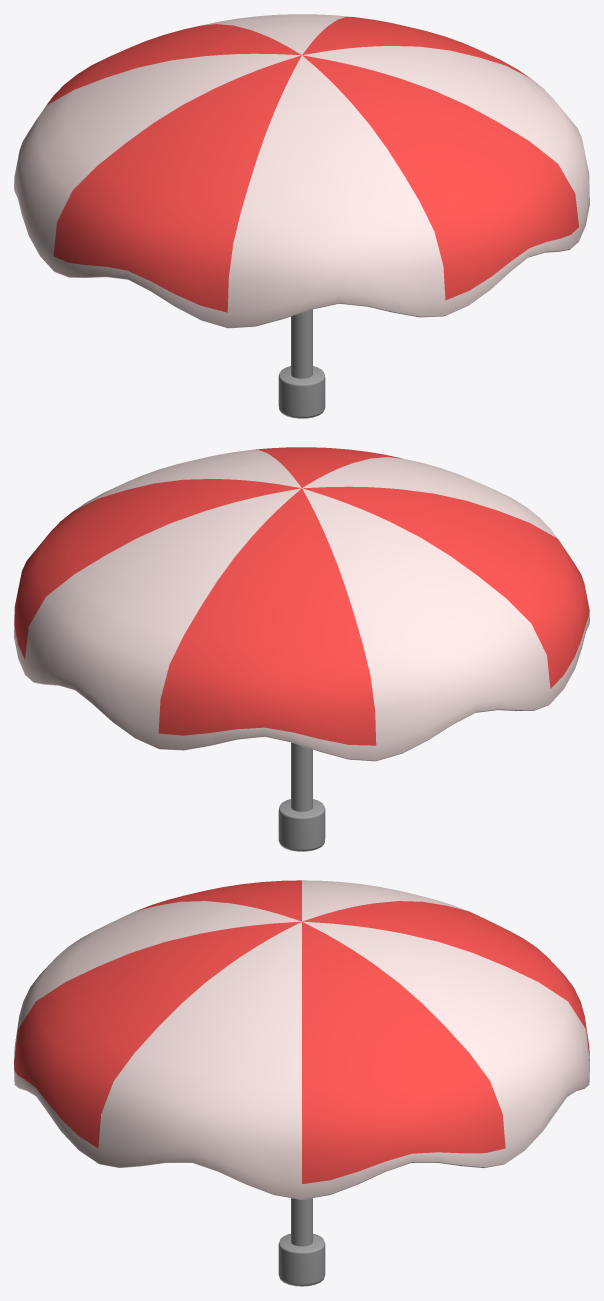
File: Store_12_Umbrella_1.glb
The picture shows the model from 3 angles, top to bottom: view 1: azimuth 30°, elevation 25°; view 2: azimuth 150°, elevation 25°; view 3: azimuth 270°, elevation 25°; orthographic projection.
Visible parts, largest first — view 1: Store_12_Umbrella_1; view 2: Store_12_Umbrella_1; view 3: Store_12_Umbrella_1.
Part boxes in pixels (x1,y1,x2,y2): Store_12_Umbrella_1: (14,14,589,418); Store_12_Umbrella_1: (14,447,589,851); Store_12_Umbrella_1: (14,880,589,1286).
Size of the model in its own units: 2.52 by 1.71 by 2.52.
Materials: 1 (1 with a texture image).
